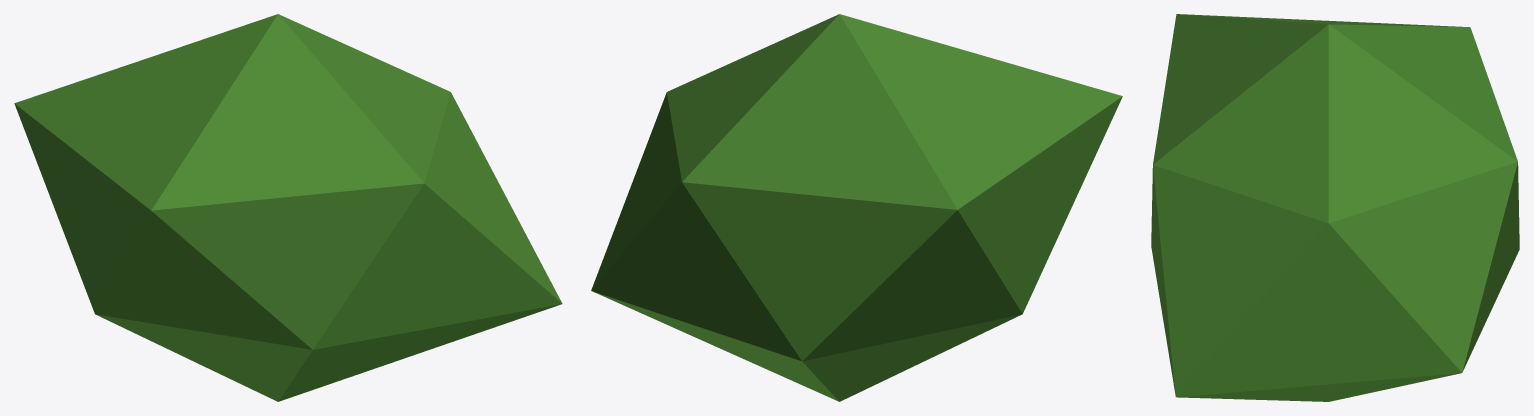
The model's file is HS_LP_Bush_Small_01.fbx.
3 renders of one model, left to right at view 1: azimuth 30°, elevation 25°; view 2: azimuth 150°, elevation 25°; view 3: azimuth 270°, elevation 25°, orthographic. The views are drawn at different scales.
Parts seen in each view (by area): view 1: HS_LP_Bush_Small_01; view 2: HS_LP_Bush_Small_01; view 3: HS_LP_Bush_Small_01.
Boxes of the visible parts, x1,y1,x2,y2 form: HS_LP_Bush_Small_01: (14,14,562,401); HS_LP_Bush_Small_01: (591,14,1122,401); HS_LP_Bush_Small_01: (1151,14,1519,401).
Size of the model in its own units: 40.44 by 36.47 by 32.26.
